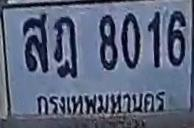0: (121, 12, 140, 68)
1: (147, 12, 160, 68)
6: (167, 10, 186, 66)
8: (99, 14, 117, 70)
A14: (52, 16, 76, 77)
A40: (23, 13, 48, 72)
BKK: (29, 84, 170, 119)
